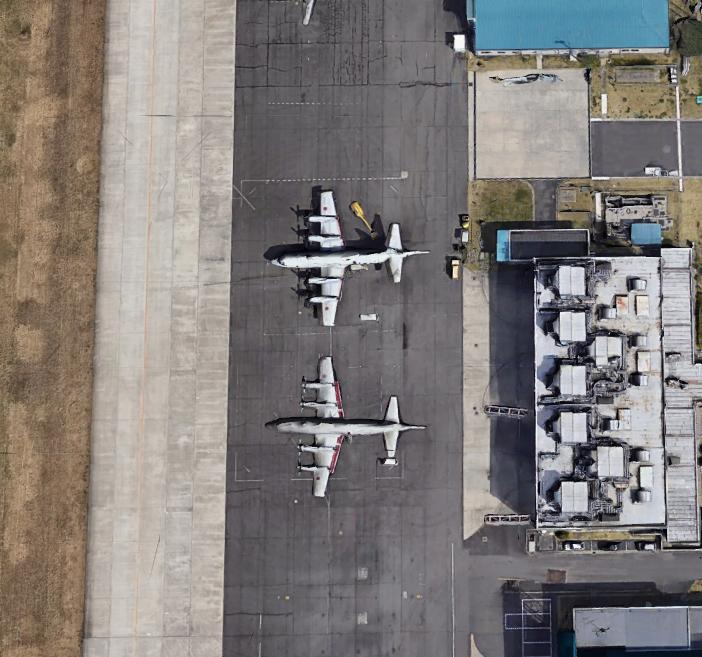A9: (259, 346, 433, 501), (264, 179, 434, 330)
